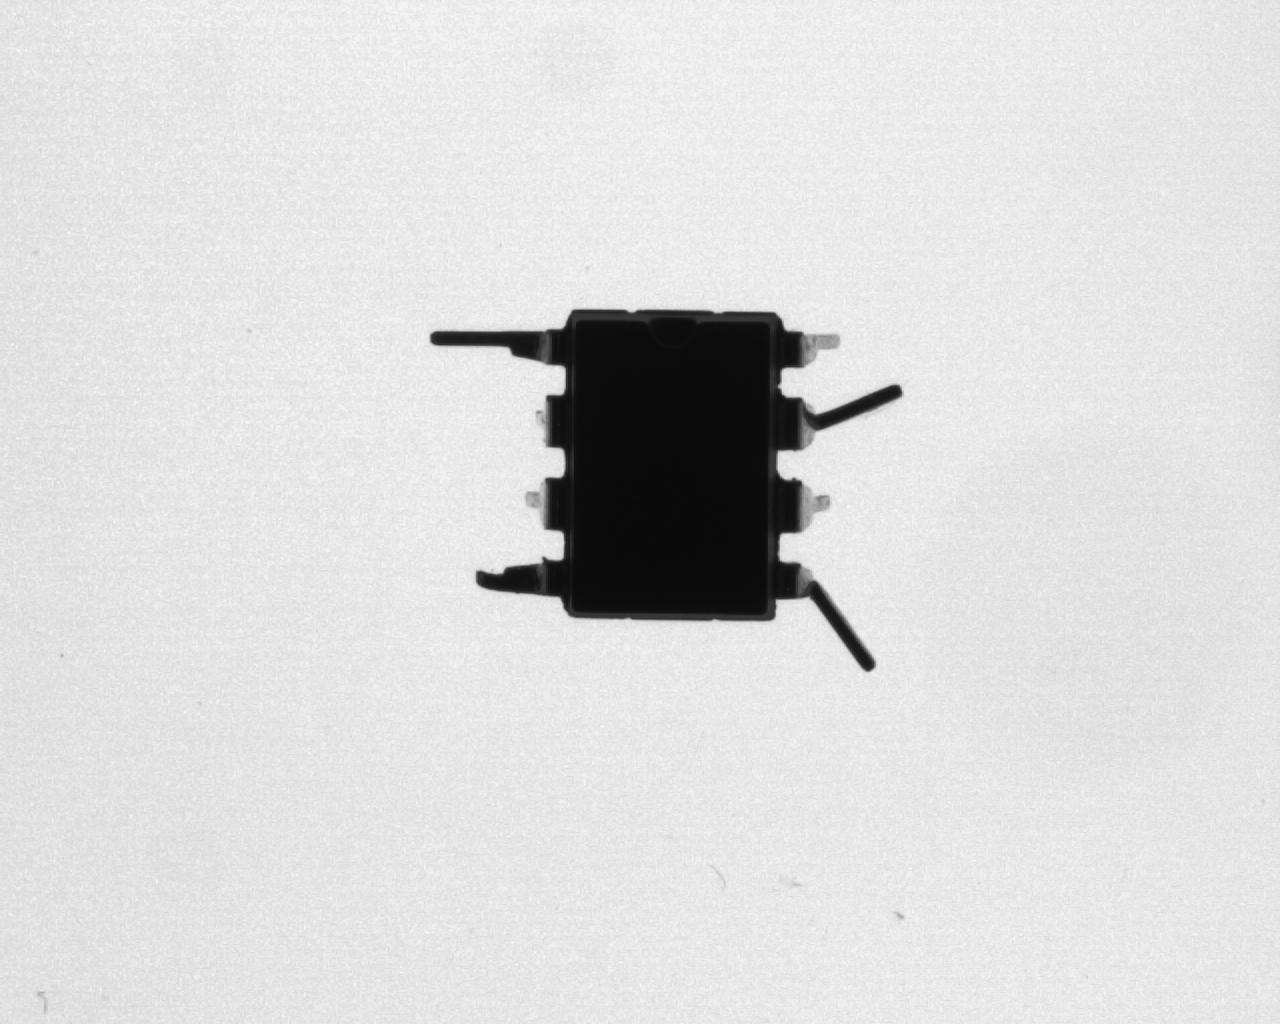Leg: (776, 559, 880, 675), (418, 324, 568, 378), (773, 379, 908, 440), (470, 553, 582, 612), (508, 473, 576, 542), (776, 471, 840, 540), (513, 388, 569, 450), (785, 328, 843, 375)
